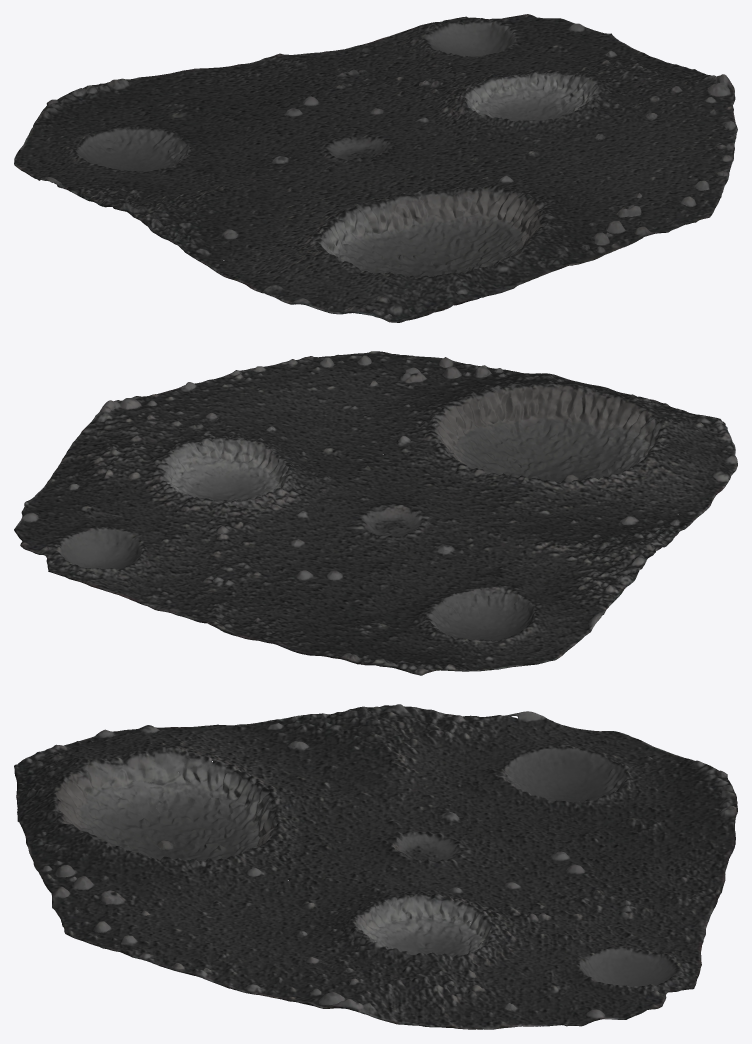
3 renders of one model, top to bottom at view 1: azimuth 30°, elevation 25°; view 2: azimuth 150°, elevation 25°; view 3: azimuth 270°, elevation 25°, orthographic. The views are drawn at different scales.
Parts seen in each view (by area): view 1: world_0; view 2: world_0; view 3: world_0.
Boxes of the visible parts, <box> form: world_0: <box>14,14,737,322</box>; world_0: <box>14,351,737,675</box>; world_0: <box>14,704,737,1029</box>.
Bounding box in the file's own units: 1 × 0.0919 × 0.9723.
1 material, 1 textured.
